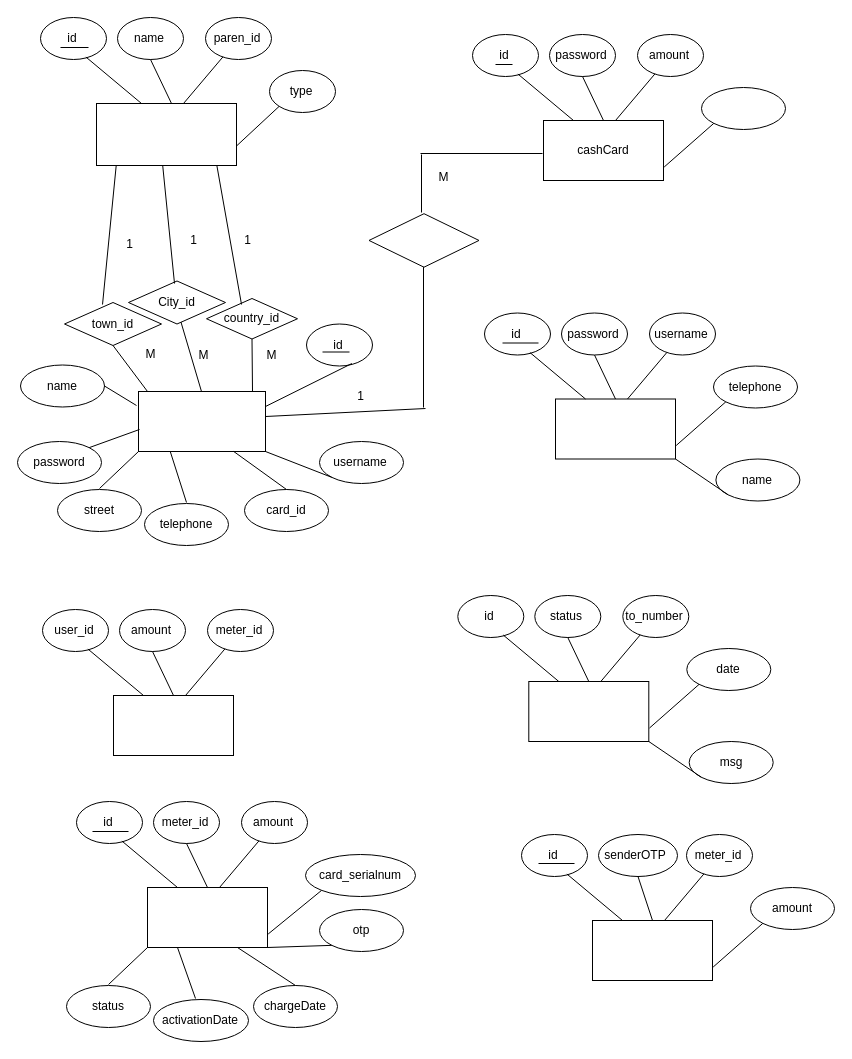
Image size: 852x1059. Some labels were removed from this diagram. The shapes that lost their labels are listed below. From the top down, each one's box as (x1, y1, x2, y2) in pixels, then its label:
(700, 86, 786, 130): Serial_number
(96, 102, 236, 166): Area
(368, 213, 479, 267): has many cards
(138, 390, 266, 452): customer
(554, 398, 676, 459): Employee
(112, 694, 234, 756): meter
(528, 680, 649, 742): SMS
(146, 886, 268, 948): Topup
(592, 920, 712, 980): transfer
